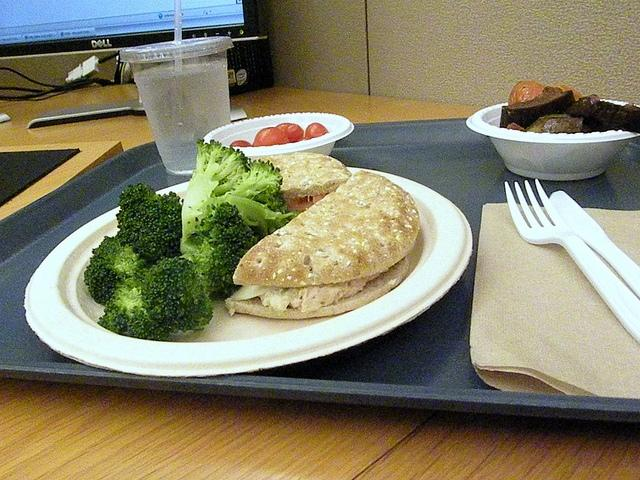broccoli: (180, 139, 302, 255), (185, 204, 258, 300), (141, 253, 214, 334), (114, 183, 184, 265), (84, 236, 158, 306)
tomato: (252, 128, 290, 146), (304, 122, 328, 139), (284, 124, 304, 142), (230, 140, 252, 146), (276, 123, 291, 131)
